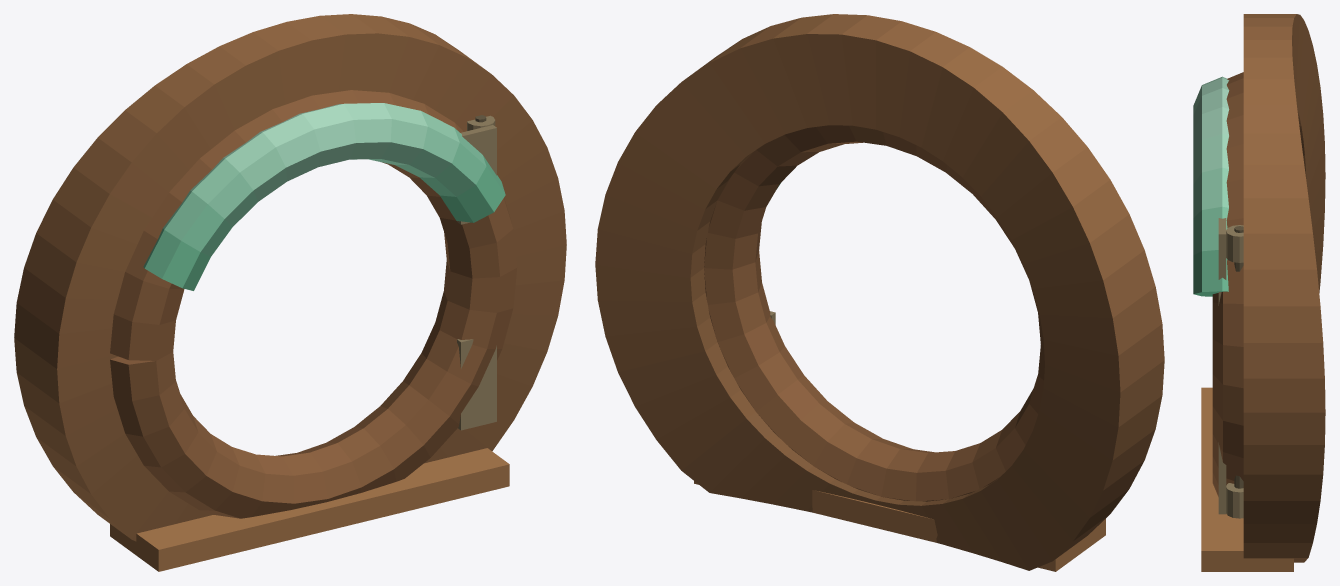
The model's file is goo_jar_door.fbx.
The picture shows the model from 3 angles, left to right: view 1: azimuth 30°, elevation 25°; view 2: azimuth 150°, elevation 25°; view 3: azimuth 270°, elevation 25°; orthographic projection. The views are drawn at different scales.
Parts seen in each view (by area): view 1: goo_jar_door; view 2: goo_jar_door; view 3: goo_jar_door.
Boxes of the visible parts, bbox=[...] form: goo_jar_door: bbox=[14, 14, 566, 571]; goo_jar_door: bbox=[595, 14, 1164, 571]; goo_jar_door: bbox=[1193, 14, 1325, 571].
Bounding box in the file's own units: 14.52 × 13.06 × 3.42.
